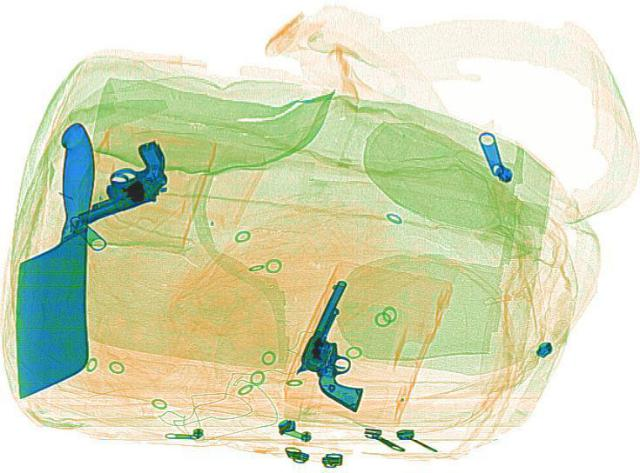Gun: (278, 277, 412, 410), (48, 137, 190, 224)
Knife: (11, 119, 90, 398)
